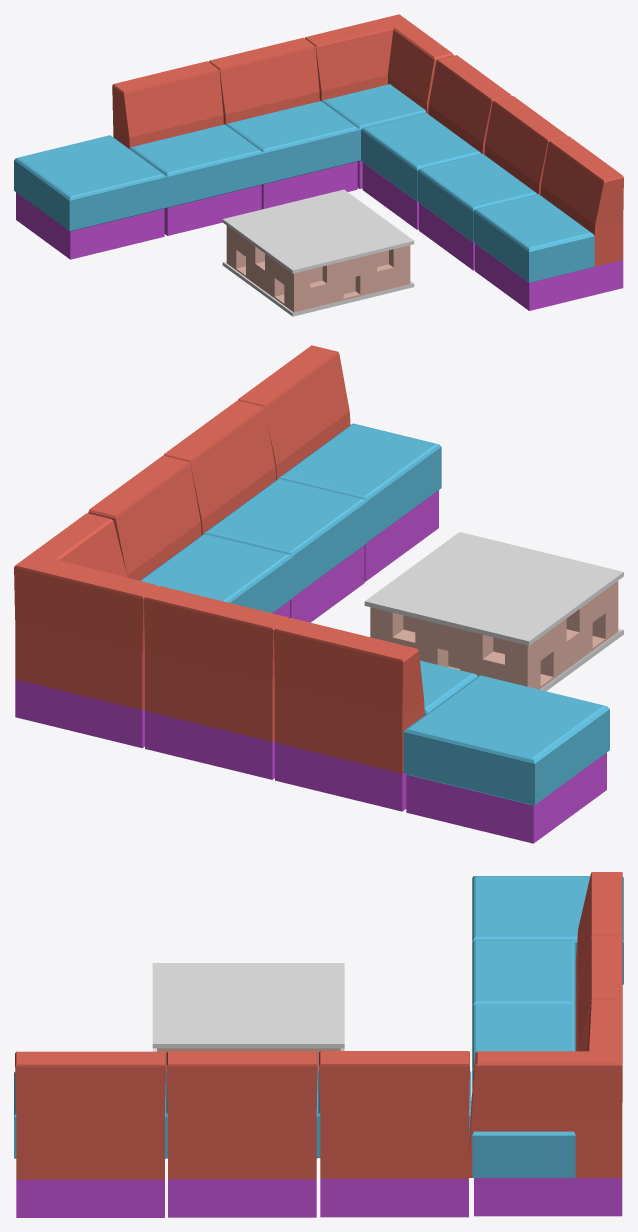
File: sitting_area.fbx
3 renders of one model, top to bottom at view 1: azimuth 30°, elevation 25°; view 2: azimuth 150°, elevation 25°; view 3: azimuth 270°, elevation 25°, orthographic. The views are drawn at different scales.
Parts seen in each view (by area): view 1: Couch.006, Plane, Couch, Couch.002, Couch.001, Couch.004, Couch.005, Couch.003; view 2: Plane, Couch.001, Couch.003, Couch, Couch.002, Couch.006, Couch.005, Couch.004; view 3: Couch.003, Couch.006, Couch.005, Couch.004, Plane, Couch, Couch.002, Couch.001.
Boxes of the visible parts, x1,y1,x2,y2 form: Couch.006: (473,136,623,310); Plane: (222,189,414,316); Couch: (112,61,263,235); Couch.002: (208,37,359,209); Couch.001: (14,135,166,259); Couch.004: (361,55,511,229); Couch.005: (417,96,567,270); Couch.003: (304,14,453,188); Plane: (364,532,623,691); Couch.001: (403,675,609,843); Couch.003: (14,513,158,748); Couch: (274,617,477,811); Couch.002: (144,586,288,779); Couch.006: (238,345,441,581); Couch.005: (163,400,367,622); Couch.004: (88,455,292,618); Couch.003: (469,1000,622,1216); Couch.006: (14,1051,167,1217); Couch.005: (166,1051,318,1217); Couch.004: (318,1051,471,1217); Plane: (152,963,344,1071); Couch: (472,872,622,1025); Couch.002: (472,936,622,1070); Couch.001: (472,876,623,984).
Bounding box in the file's own units: 473 × 131 × 474.
